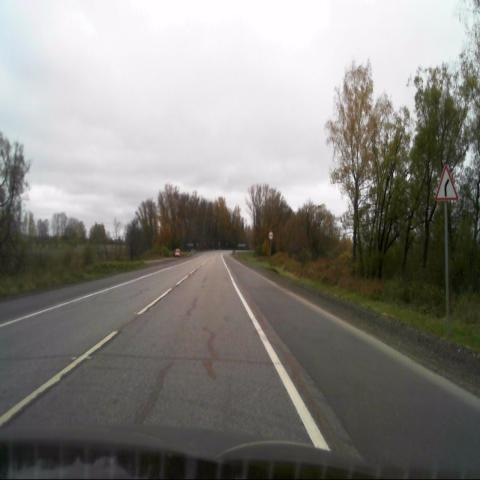1_11: (435, 164, 458, 200)
